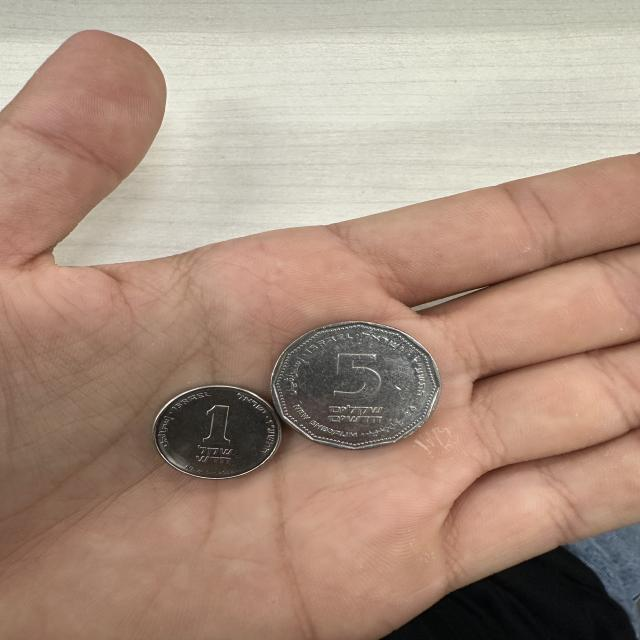1-shekel: (142, 381, 284, 484)
5-shekel: (262, 320, 450, 460)
